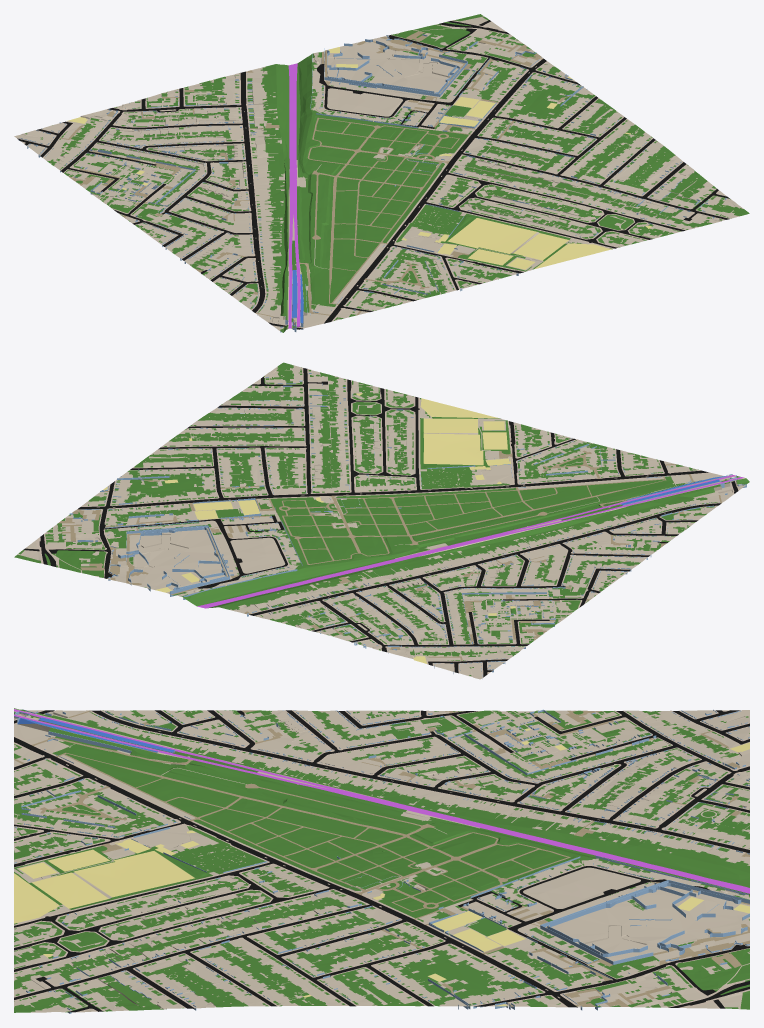
The model's file is TQ2673_Terrain_LOD_1_draco.glb.
3 renders of one model, top to bottom at view 1: azimuth 30°, elevation 25°; view 2: azimuth 150°, elevation 25°; view 3: azimuth 270°, elevation 25°, orthographic. The views are drawn at different scales.
Visible parts, largest first — view 1: TQ2673_Terrain; view 2: TQ2673_Terrain; view 3: TQ2673_Terrain.
Boxes of the visible parts, <box> form: TQ2673_Terrain: <box>14,14,749,332</box>; TQ2673_Terrain: <box>14,362,749,679</box>; TQ2673_Terrain: <box>14,708,749,1013</box>.
Size of the model in its own units: 1000 by 35.46 by 1000.
Materials: 1 (1 with a texture image).
